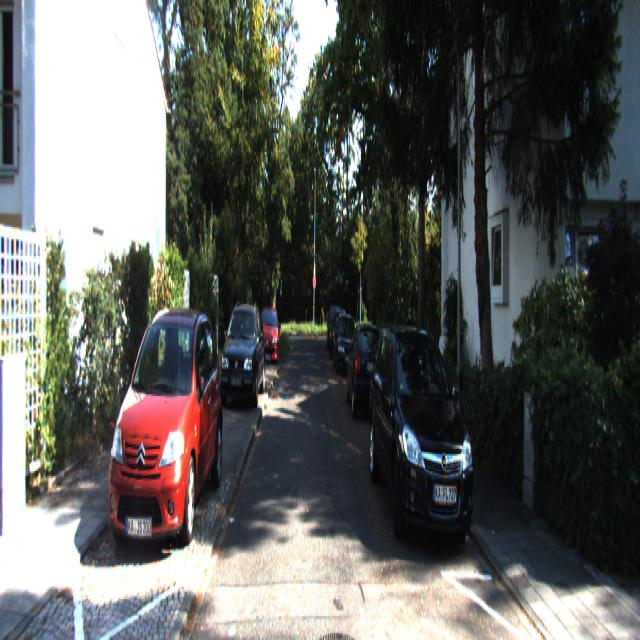Car: (367, 316, 483, 562), (109, 308, 224, 556), (218, 301, 266, 412), (347, 318, 391, 421), (334, 310, 360, 376), (256, 306, 280, 368)
